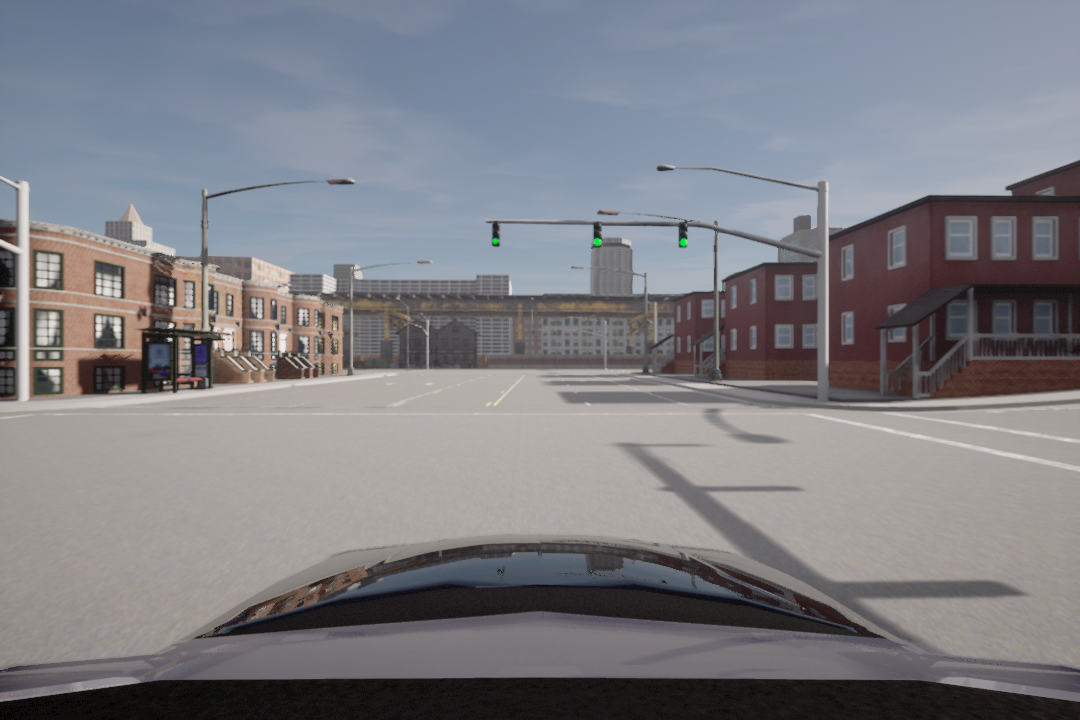TrafficLight: (674, 217, 693, 252), (588, 218, 605, 247), (490, 222, 501, 245)
